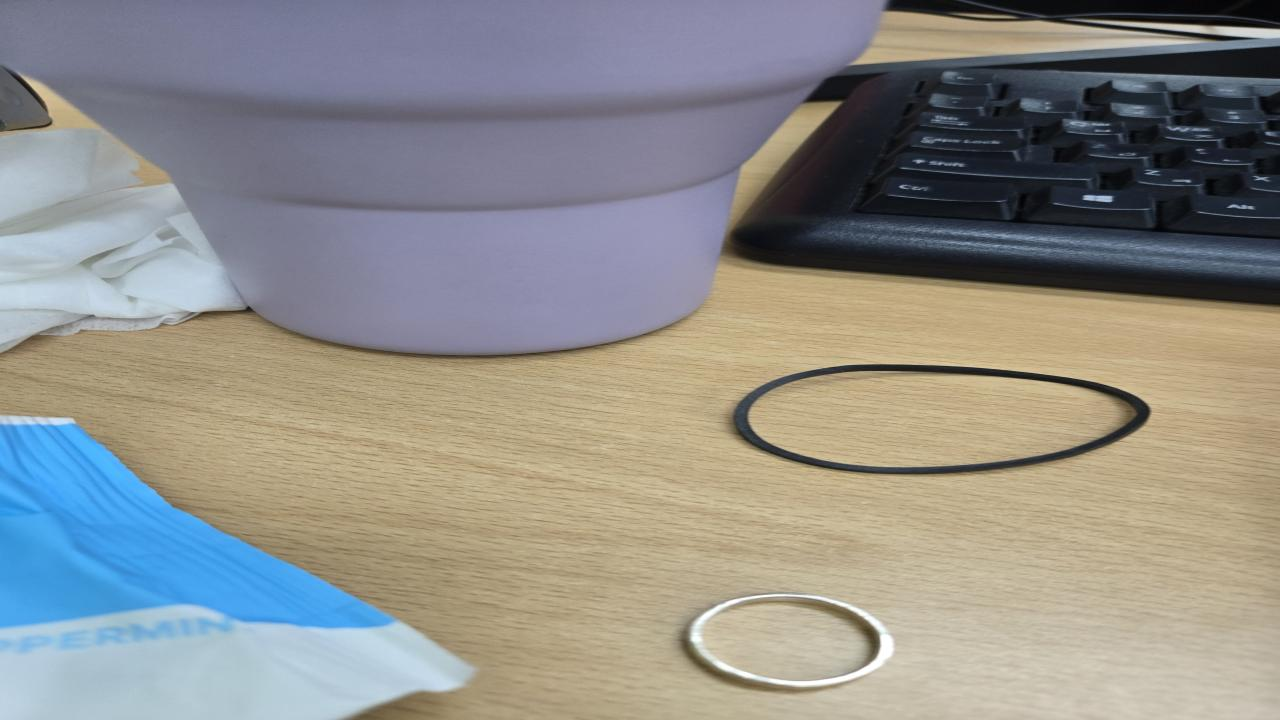ring: (674, 590, 898, 692)
